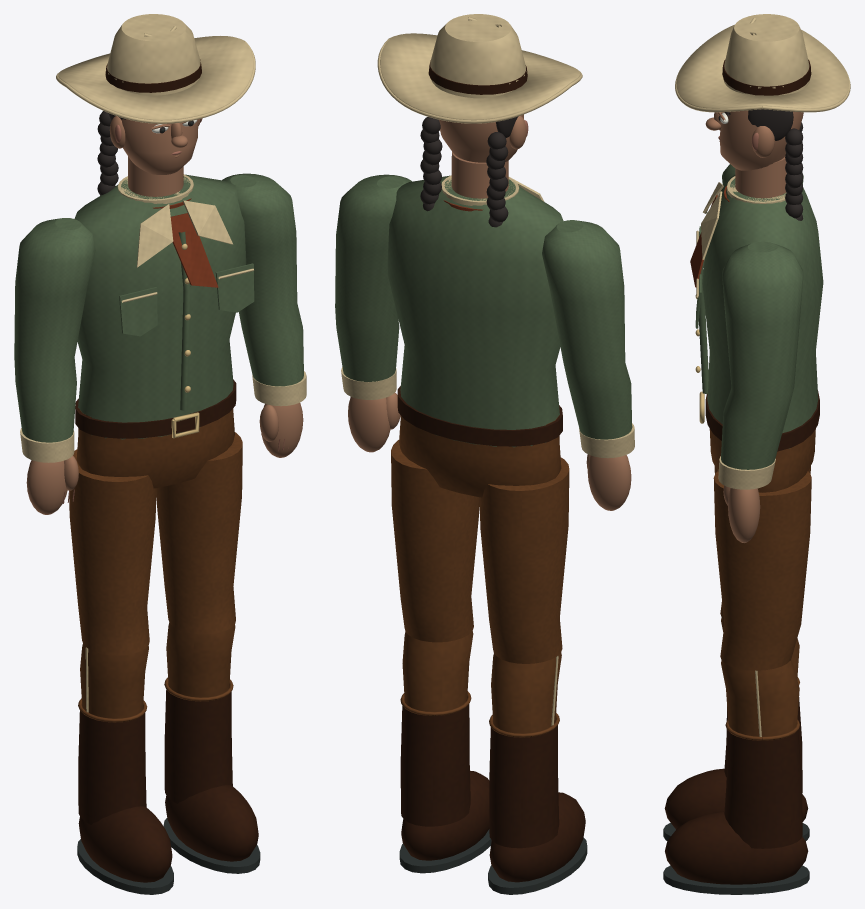
The model's file is TrailScout.fbx.
3 views of the same model, side by side, from view 1: azimuth 30°, elevation 25°; view 2: azimuth 150°, elevation 25°; view 3: azimuth 270°, elevation 25° (orthographic). The views are drawn at different scales.
Parts seen in each view (by area): view 1: TorsoMesh, HeadMesh, ArmLMesh, KneeLMesh, KneeRMesh, ArmRMesh, LegLMesh, LegRMesh, HipsMesh; view 2: TorsoMesh, HeadMesh, KneeLMesh, KneeRMesh, ArmLMesh, ArmRMesh, LegLMesh, LegRMesh, HipsMesh; view 3: KneeRMesh, HeadMesh, ArmRMesh, TorsoMesh, LegRMesh, KneeLMesh, HipsMesh.
Part boxes in pixels (<box>): TorsoMesh: <box>74,174,254,439</box>; HeadMesh: <box>56,14,255,196</box>; ArmLMesh: <box>14,218,95,514</box>; KneeLMesh: <box>77,644,173,894</box>; KneeRMesh: <box>163,622,260,873</box>; ArmRMesh: <box>222,173,306,457</box>; LegLMesh: <box>69,449,156,655</box>; LegRMesh: <box>156,432,242,634</box>; HipsMesh: <box>75,379,236,488</box>; TorsoMesh: <box>387,175,563,447</box>; HeadMesh: <box>377,14,582,227</box>; KneeLMesh: <box>488,652,587,894</box>; KneeRMesh: <box>399,631,491,873</box>; ArmLMesh: <box>542,220,634,510</box>; ArmRMesh: <box>335,174,411,452</box>; LegLMesh: <box>480,457,569,663</box>; LegRMesh: <box>391,440,479,642</box>; HipsMesh: <box>397,386,562,497</box>; KneeRMesh: <box>663,659,809,894</box>; HeadMesh: <box>675,14,850,220</box>; ArmRMesh: <box>718,241,803,542</box>; TorsoMesh: <box>690,175,823,448</box>; LegRMesh: <box>713,471,811,670</box>; KneeLMesh: <box>663,617,809,840</box>; HipsMesh: <box>699,390,819,492</box>.
Bounding box in the file's own units: 64.6 × 184 × 37.1.
Materials: 12 (6 with a texture image).
